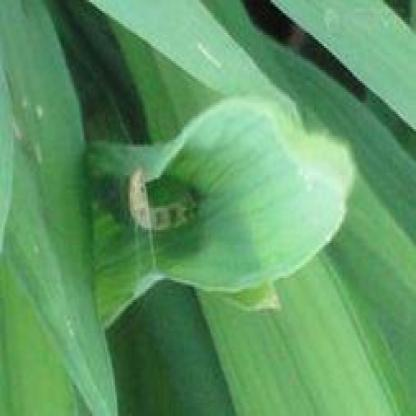leaf-folder: (118, 162, 209, 236)
